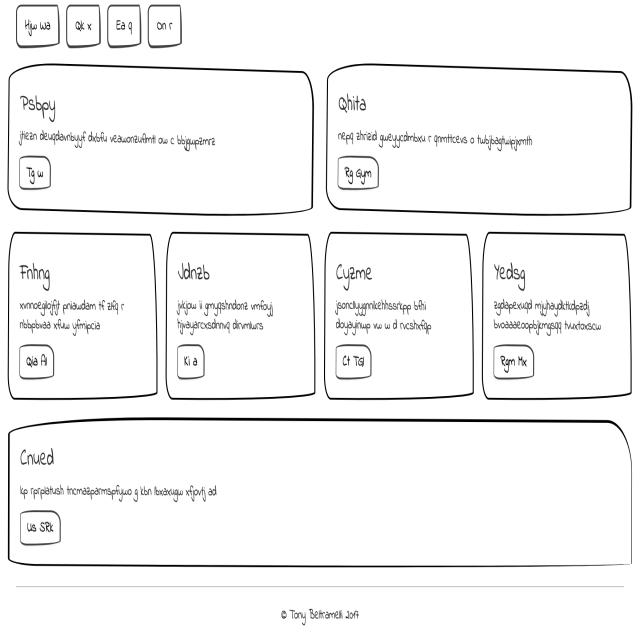Button: (12, 4, 191, 48), (335, 154, 382, 194), (17, 508, 63, 548), (14, 157, 57, 197), (492, 344, 536, 381), (334, 346, 374, 384), (17, 342, 54, 383), (175, 341, 206, 383)
Card: (6, 410, 632, 566), (4, 62, 317, 217), (326, 64, 635, 217), (166, 226, 316, 402), (482, 230, 630, 402), (7, 230, 159, 396), (324, 230, 472, 399)
Footer: (7, 576, 640, 640)
Heading 6: (20, 86, 67, 125), (490, 254, 534, 294), (336, 256, 374, 294), (18, 256, 57, 293), (16, 444, 68, 471), (177, 258, 216, 288), (336, 92, 371, 116)
Paragraph: (335, 127, 534, 153), (491, 296, 602, 342), (15, 480, 223, 504), (330, 296, 436, 342), (14, 127, 220, 150), (15, 298, 130, 338), (173, 296, 280, 338)
